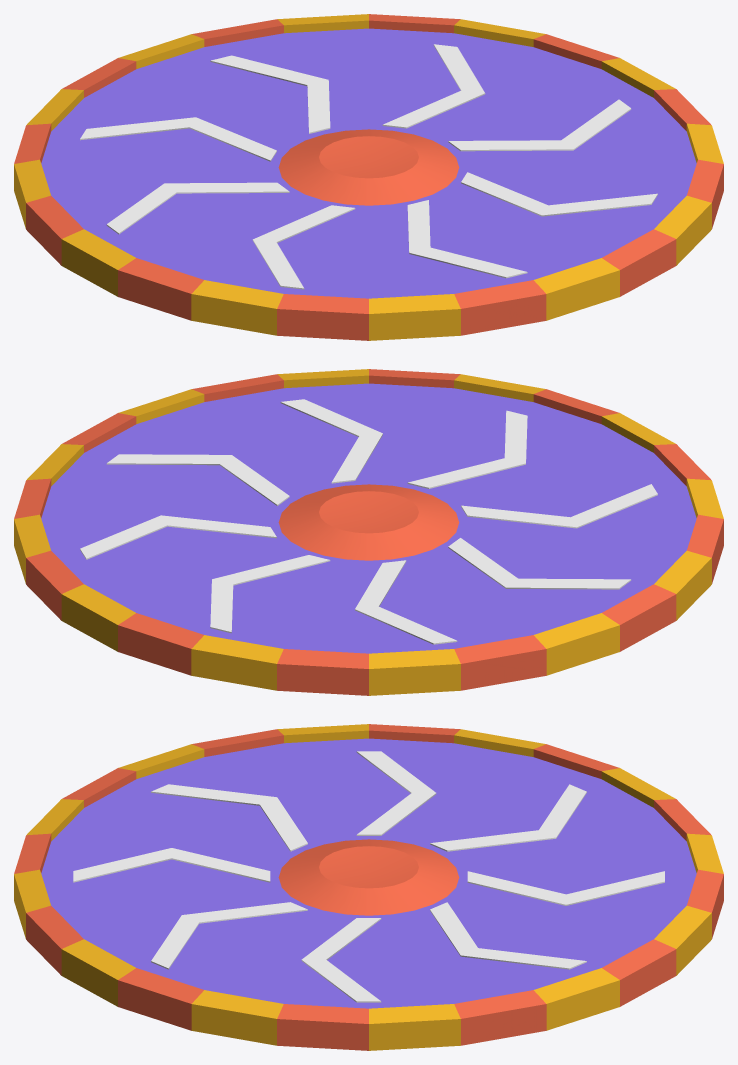
File: roundaboutA.glb
The picture shows the model from 3 angles, top to bottom: view 1: azimuth 30°, elevation 25°; view 2: azimuth 150°, elevation 25°; view 3: azimuth 270°, elevation 25°; orthographic projection.
Parts seen in each view (by area): view 1: roundabout; view 2: roundabout; view 3: roundabout.
Part boxes in pixels (x1,y1,x2,y2): roundabout: [14, 14, 723, 340]; roundabout: [14, 369, 723, 695]; roundabout: [14, 724, 723, 1050].
Size of what is drawn, in the model's own units: 7.2 by 0.4263 by 7.2.
Materials: 1 (1 with a texture image).
